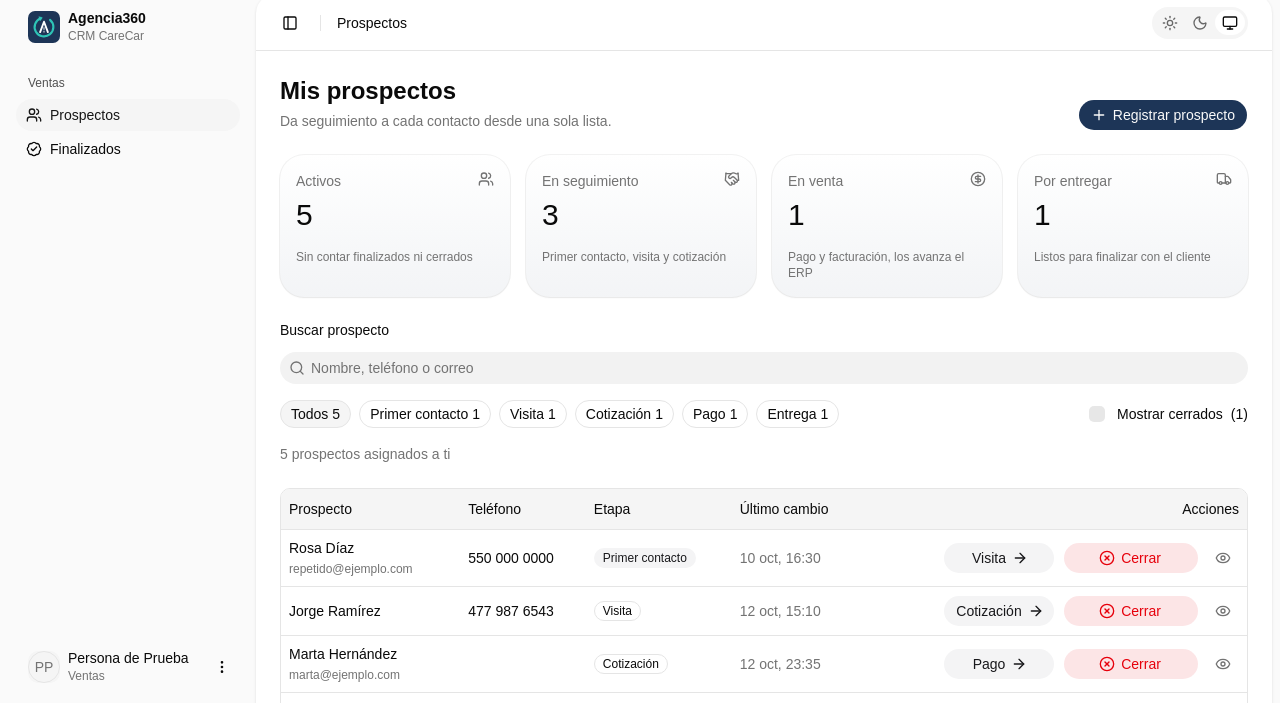
Test: App › cambia al formulario de registro y de regreso a la lista
Click the link "Registrar prospecto": click(1163, 115) [1078,99,1248,131]
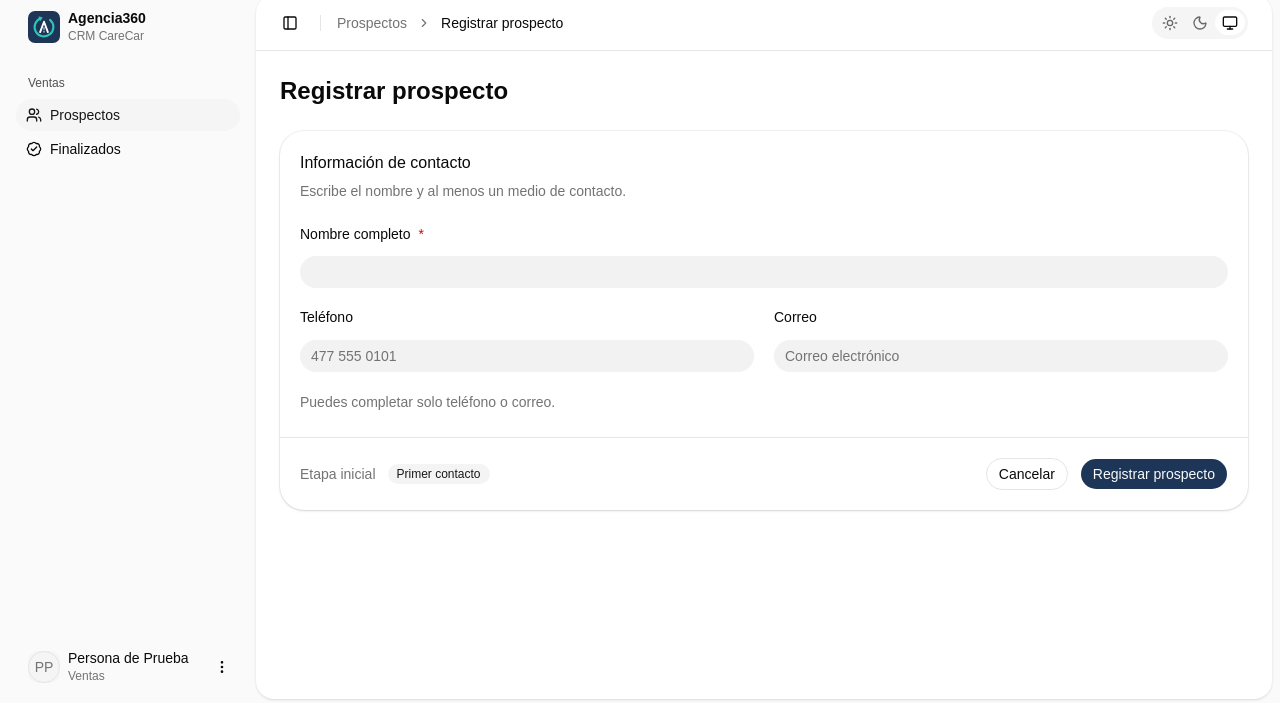
expect the heading "Registrar prospecto" is shown: met, box [280,75,508,107]
Click the 2nd link "Prospectos": click(128, 115) [16,99,240,131]
(page scrolled)
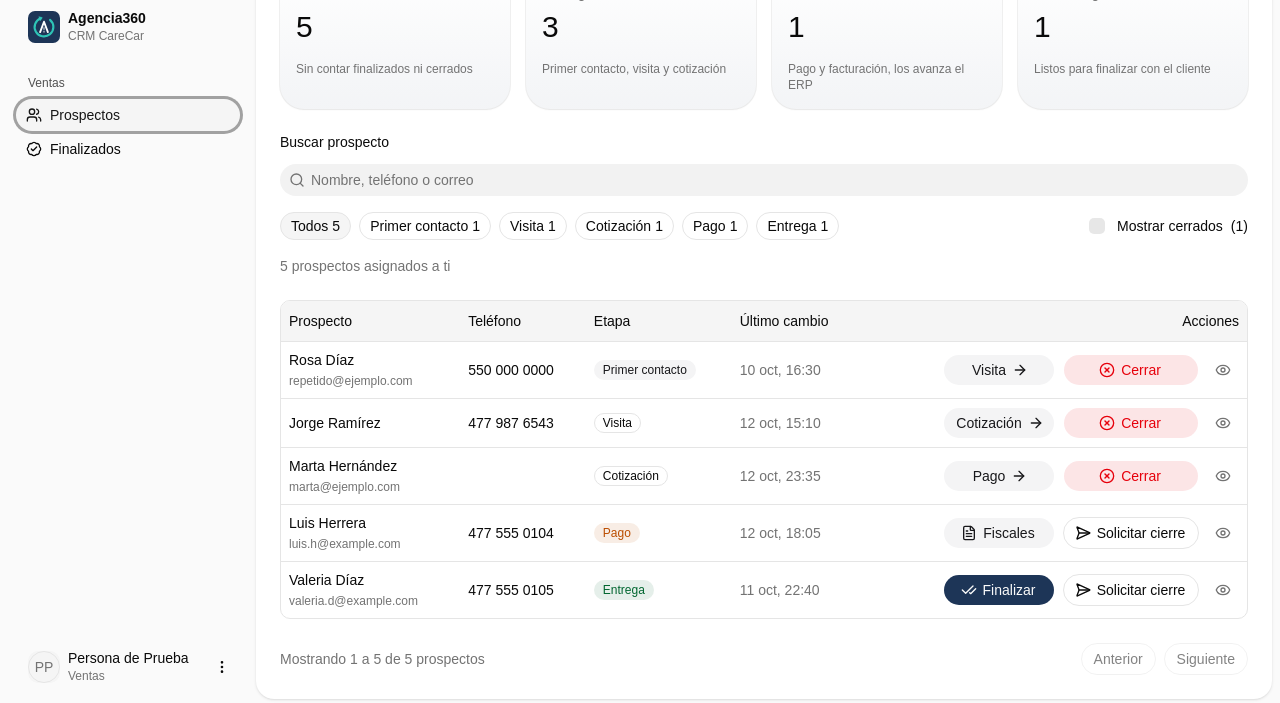
expect the table named "Prospectos" is shown: met, box [281,301,1247,618]
